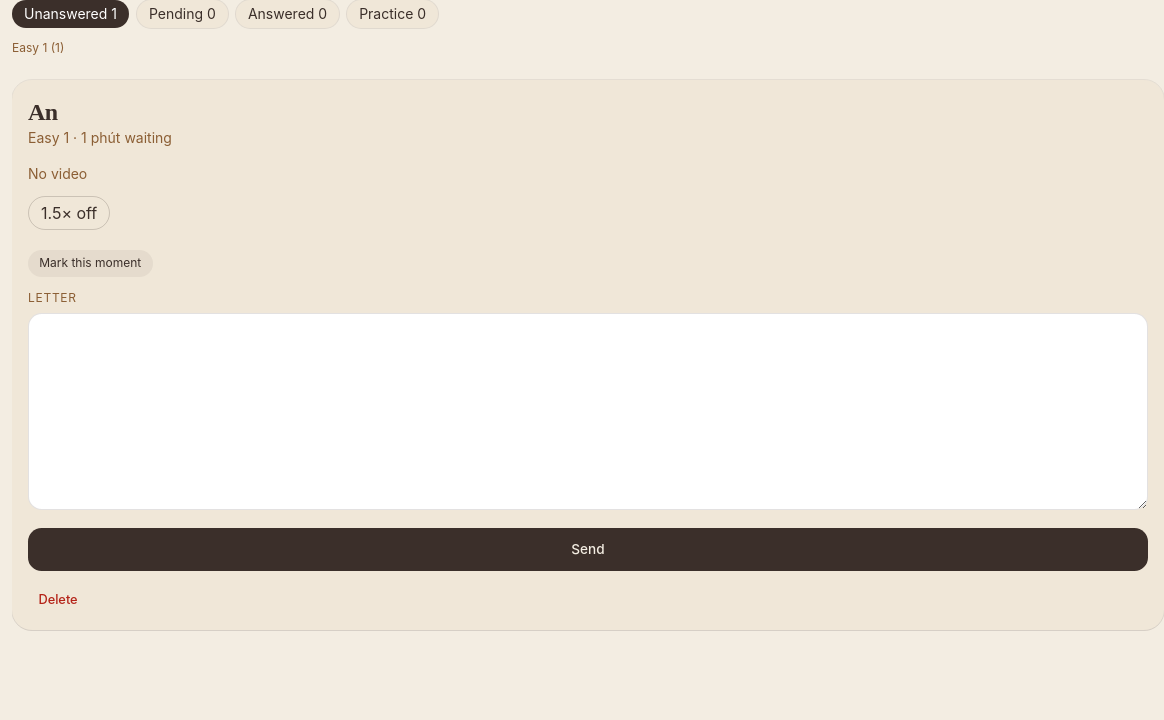
Scenario: QueueClient › shows a stale message instead of sending a second reply
Type "Keep the beat." into the text box labelled "Letter" at (588, 411), box [28, 313, 1148, 510]
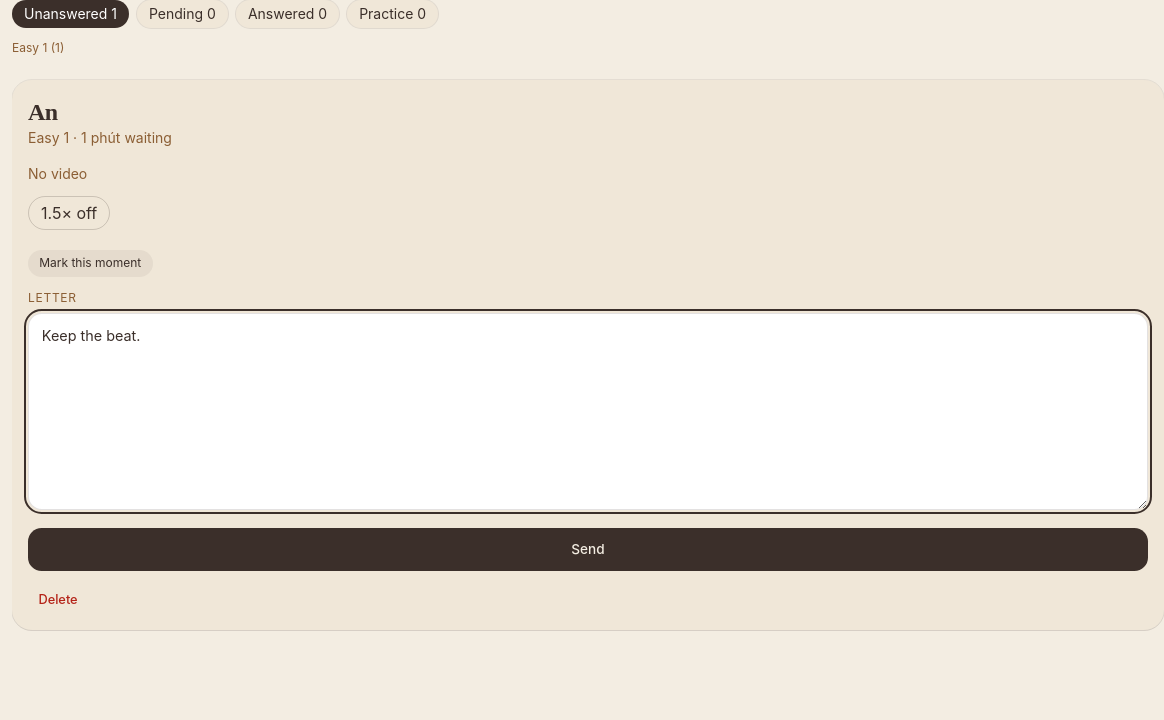
Click the button "Send" at (588, 549), box [28, 528, 1148, 571]
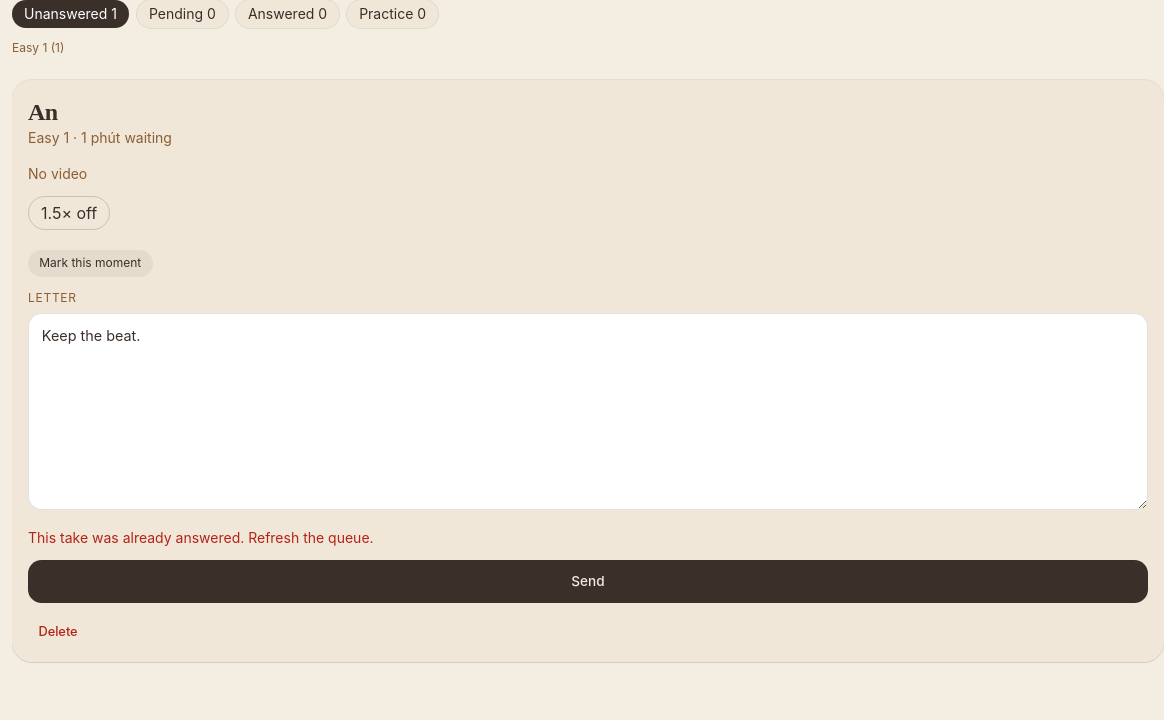
expect the text "This take was already answered. Refresh the queue." is shown: met, box [28, 529, 374, 546]
